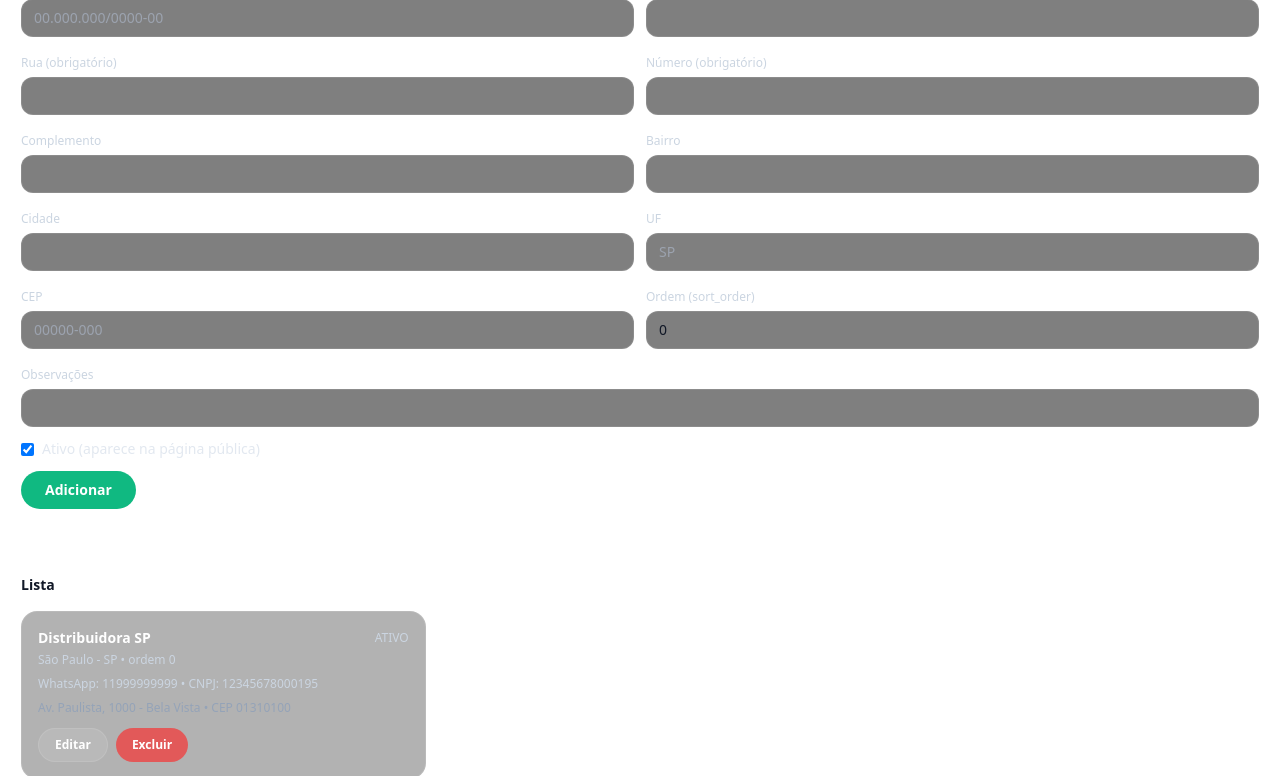
Test: RepresentativeForm › modo edição › popula o formulário ao clicar em Editar e exibe 'Editar representante'
(page scrolled)
Check: the text "Distribuidora SP" is shown, box [38,628,151,648]
Step 1. Click the button "Editar" → [73, 745], box [38,728,108,762]
(page scrolled)
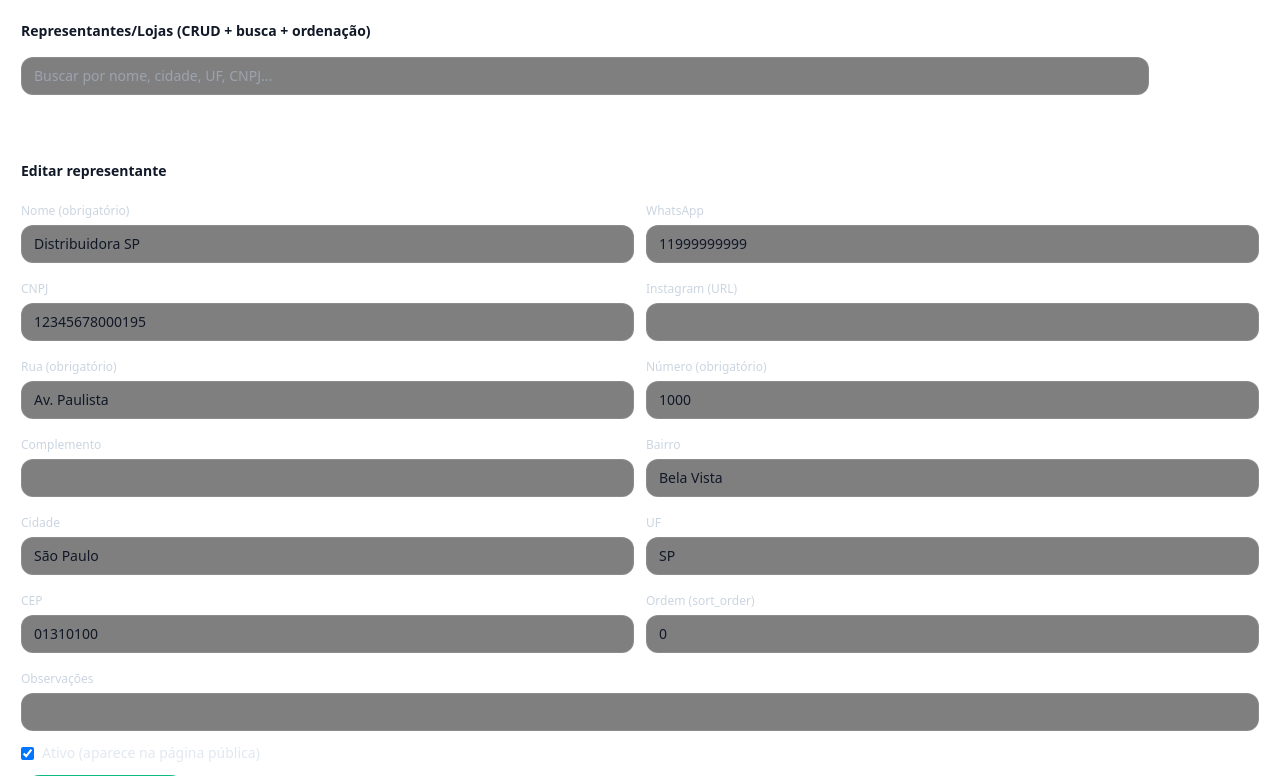
Check: the heading "Editar representante" is shown, box [21,161,167,180]
